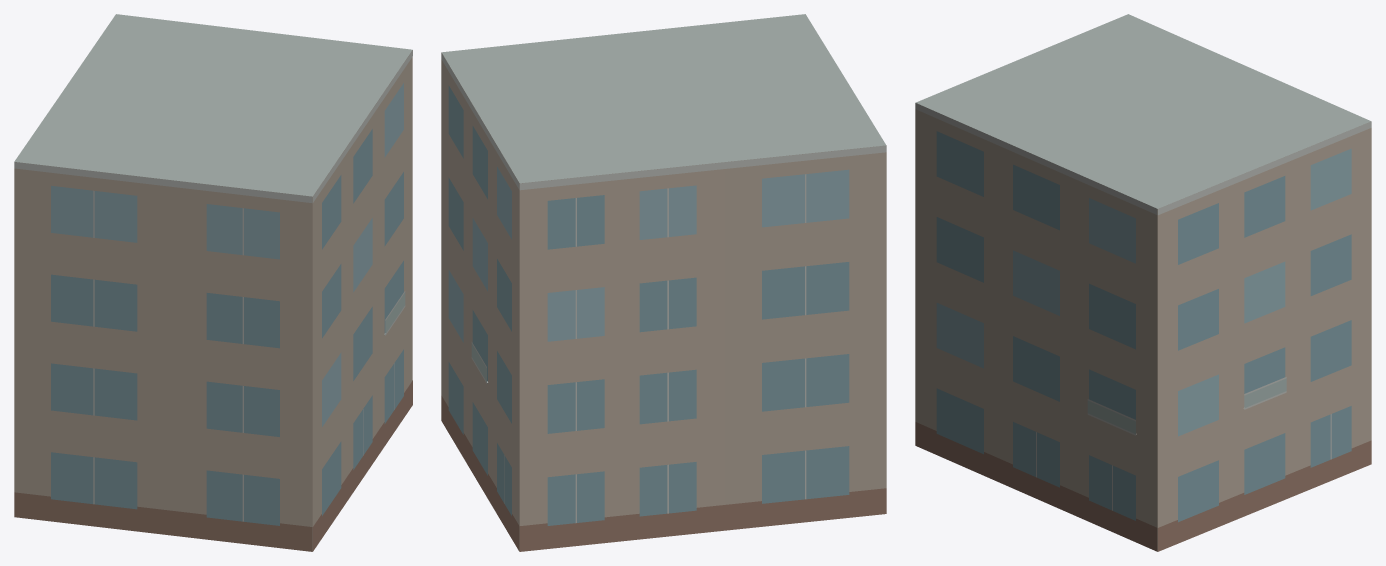
The model's file is survey-upis-32683656.glb.
The picture shows the model from 3 angles, left to right: view 1: azimuth 30°, elevation 25°; view 2: azimuth 150°, elevation 25°; view 3: azimuth 270°, elevation 25°; orthographic projection. The views are drawn at different scales.
Visible parts, largest first — view 1: survey-upis-32683656.tmp; view 2: survey-upis-32683656.tmp; view 3: survey-upis-32683656.tmp.
Part boxes in pixels (box(x1,y1,x2,y2)): survey-upis-32683656.tmp: box(14, 14, 412, 551); survey-upis-32683656.tmp: box(441, 14, 886, 551); survey-upis-32683656.tmp: box(915, 14, 1371, 551).
Size of the model in its own units: 15.85 by 13 by 15.68.
